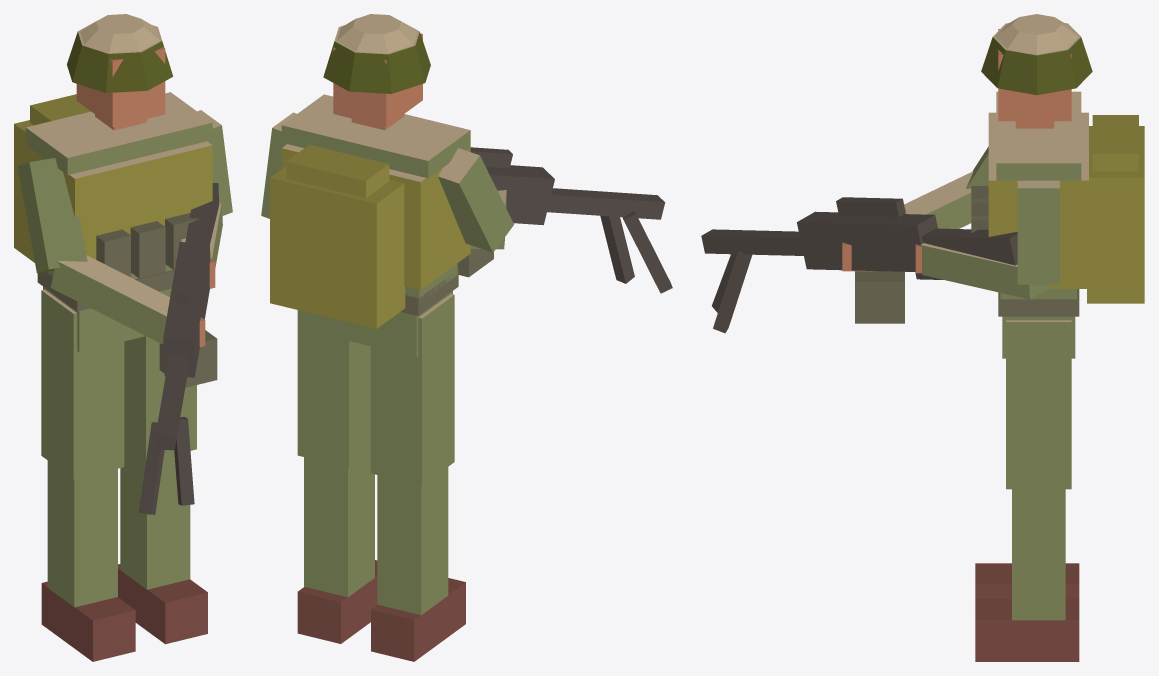
The model's file is SM_SoldadoArmado_v3_MG4E_Reposo_LOD1.fbx.
3 renders of one model, left to right at view 1: azimuth 30°, elevation 25°; view 2: azimuth 150°, elevation 25°; view 3: azimuth 270°, elevation 25°, orthographic.
Visible parts, largest first — view 1: SM_bloques.soldado_armado_v3_LOD1; view 2: SM_bloques.soldado_armado_v3_LOD1; view 3: SM_bloques.soldado_armado_v3_LOD1.
Boxes of the visible parts, bbox=[...] form: SM_bloques.soldado_armado_v3_LOD1: bbox=[14, 14, 232, 661]; SM_bloques.soldado_armado_v3_LOD1: bbox=[261, 14, 672, 661]; SM_bloques.soldado_armado_v3_LOD1: bbox=[701, 14, 1144, 661].
Bounding box in the file's own units: 0.7295 × 1.75 × 1.15.
